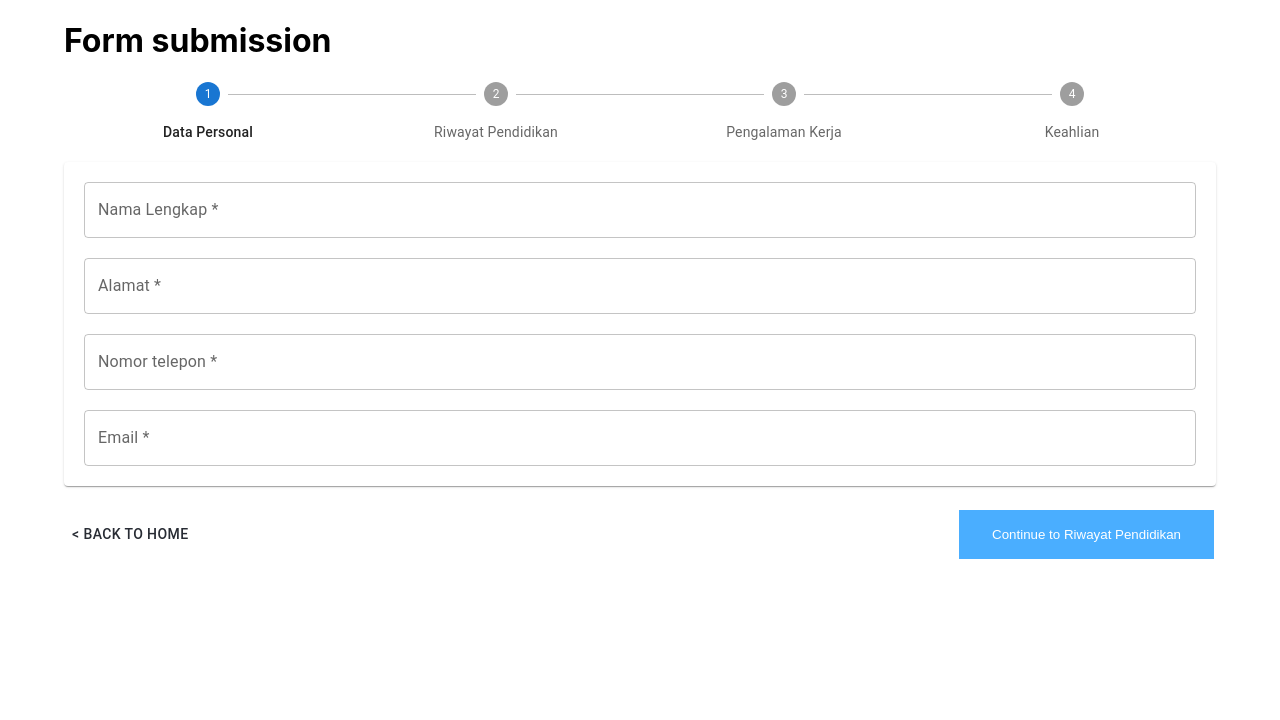
Test case: FormSubmission › renders error message when next button is clicked
The width and height of the screenshot is (1280, 720).
Click the button "Continue to Riwayat Pendidikan": (1087, 534) [959,510,1214,559]
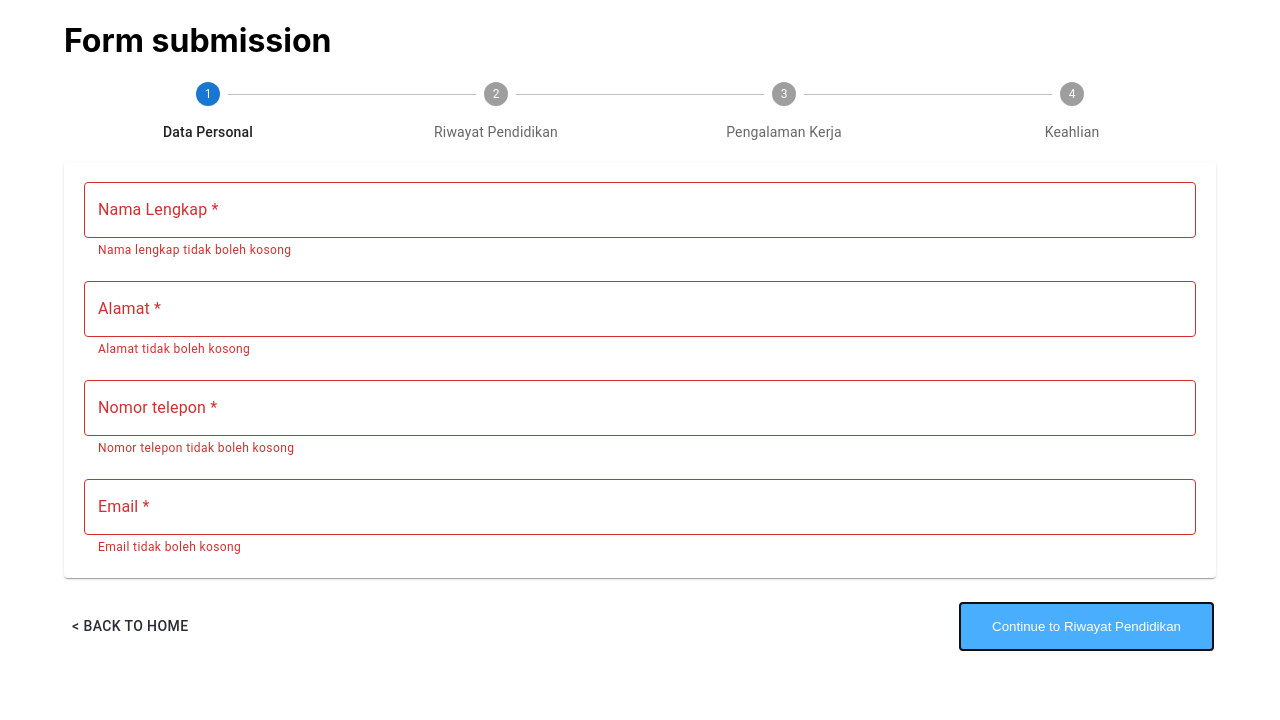
expect the text "Nama lengkap tidak boleh kosong" is shown: met, box [98,243,292,257]
